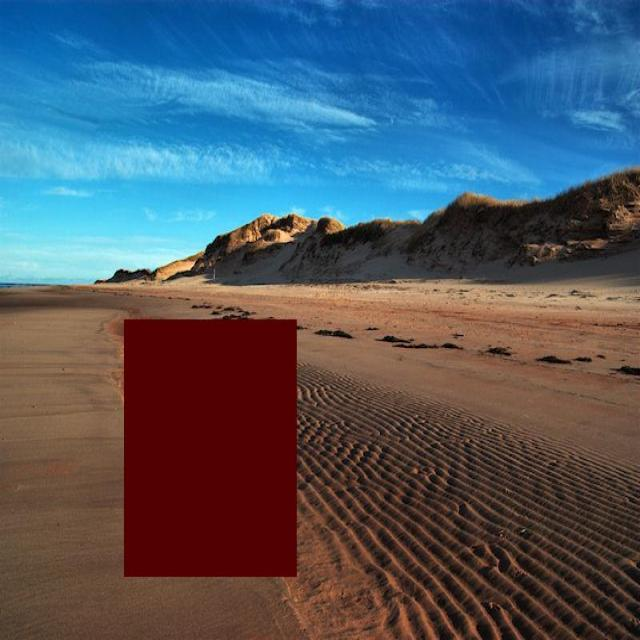RedSquare: (120, 311, 300, 582)
